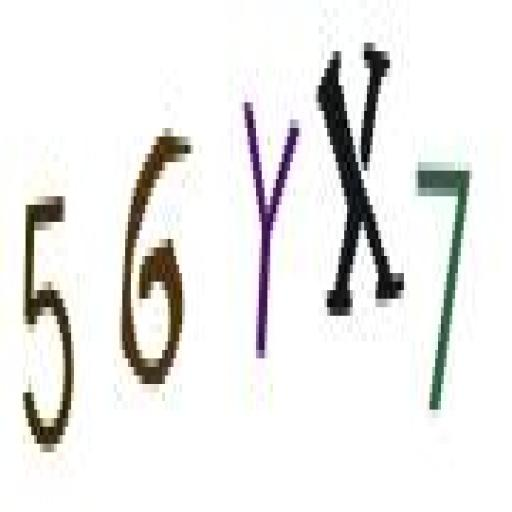5: (14, 176, 80, 464)
6: (112, 98, 197, 412)
7: (411, 149, 475, 421)
X: (311, 30, 410, 340)
Y: (239, 81, 303, 381)
